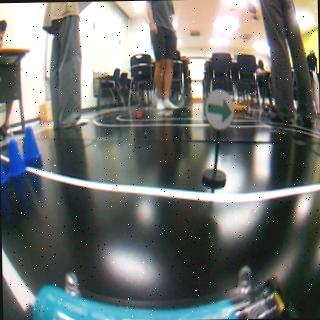right: (204, 88, 236, 133)
